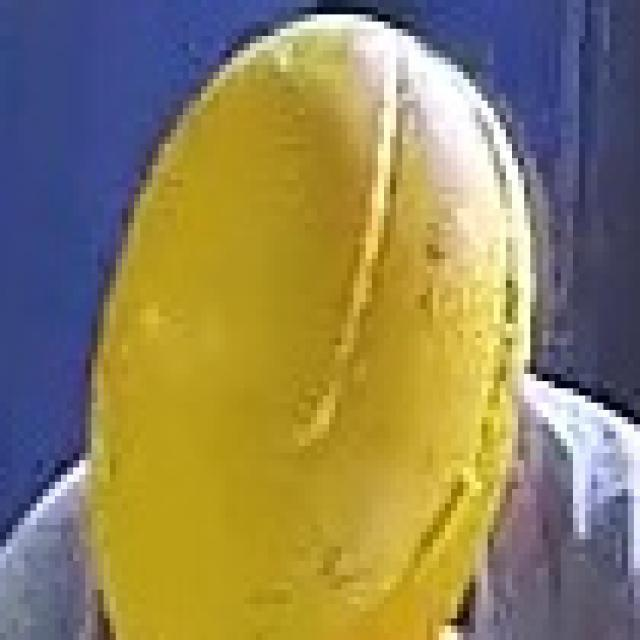yellow helmet: (88, 7, 536, 640)
